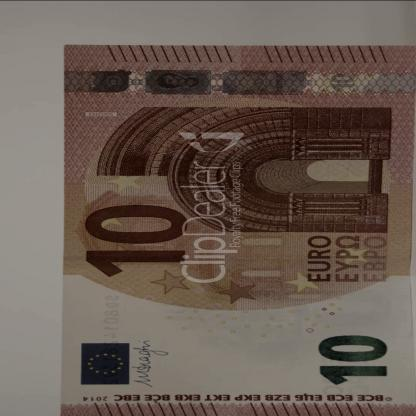euro_banknote: (53, 53, 416, 408)
